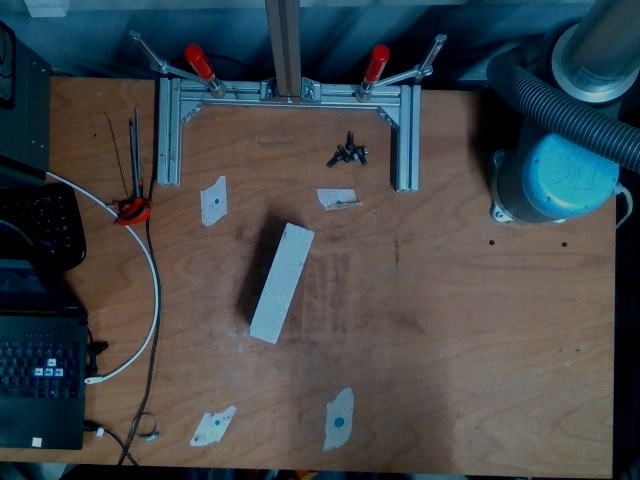brick-side: (249, 222, 314, 343)
